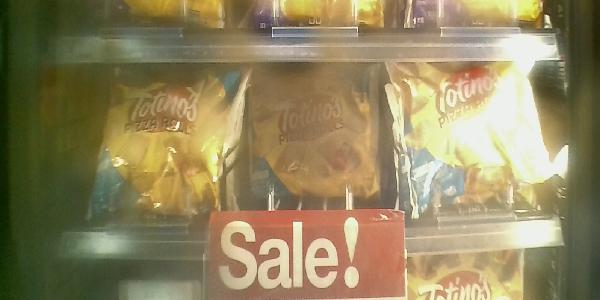icecream: (44, 58, 233, 243), (243, 58, 385, 225), (387, 59, 515, 229)
